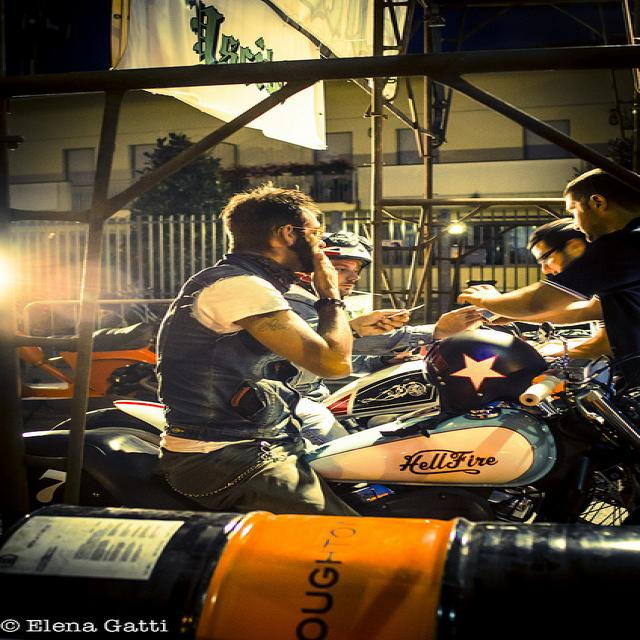motor: (26, 323, 640, 527), (49, 361, 432, 436), (73, 322, 158, 397)
